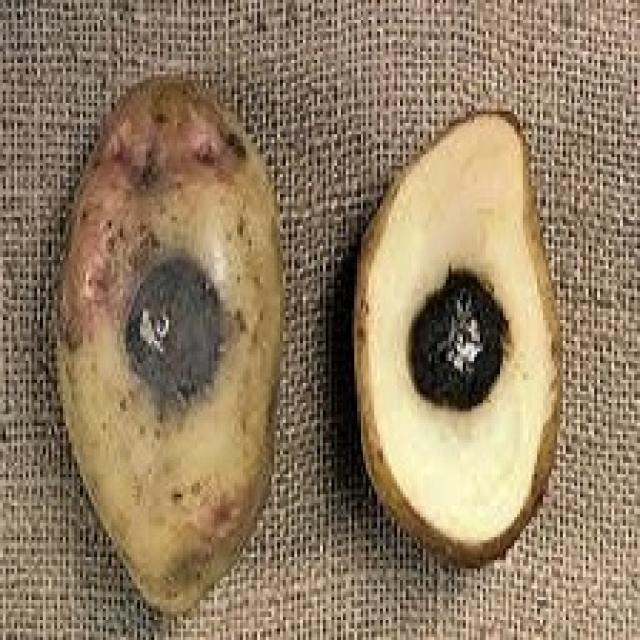blackleg: (40, 69, 293, 623), (343, 101, 579, 581)
